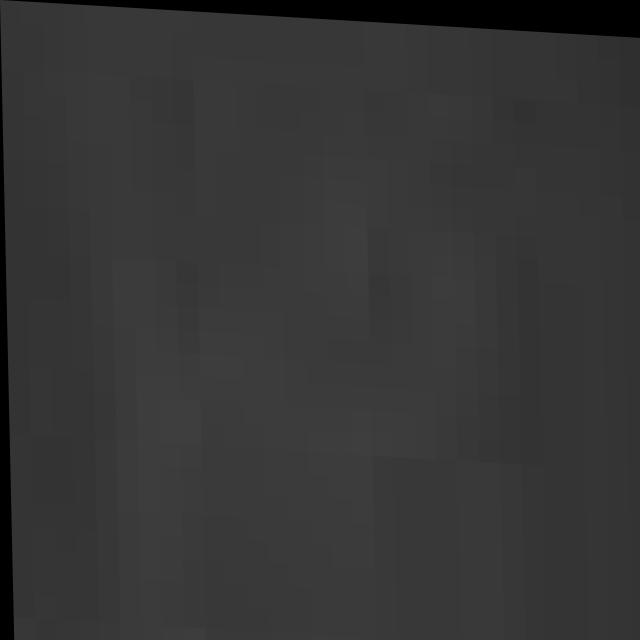fracture: (1, 13, 640, 640)
